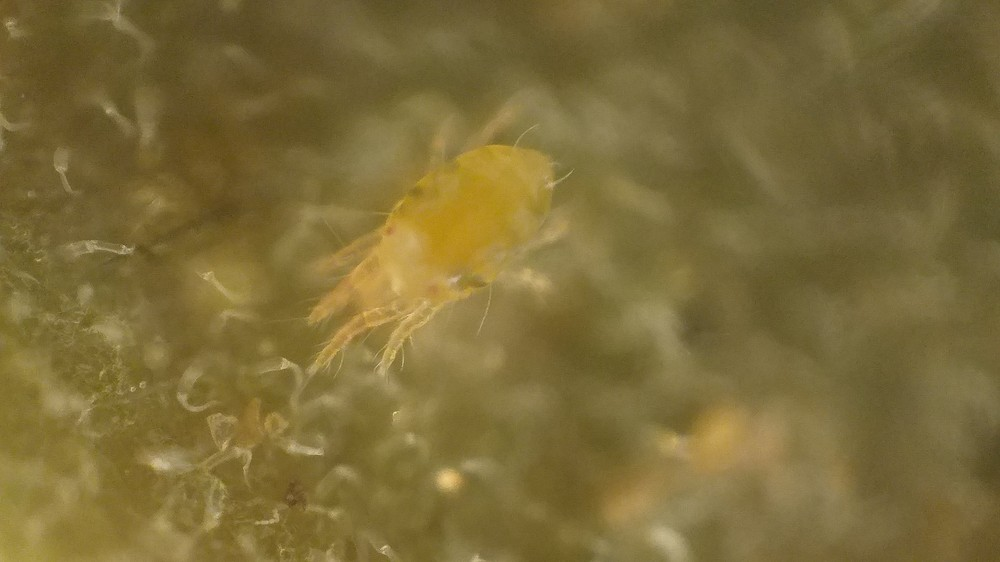Aracnido Rojo: (303, 79, 619, 407)
